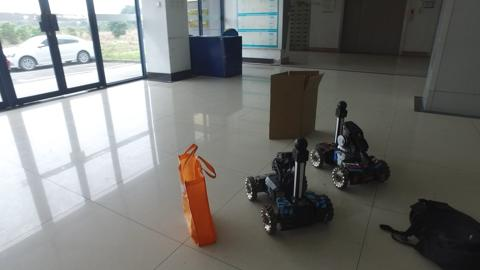bag: (176, 145, 218, 246)
box: (267, 67, 322, 139)
chariot: (241, 137, 334, 233), (315, 100, 391, 187)
